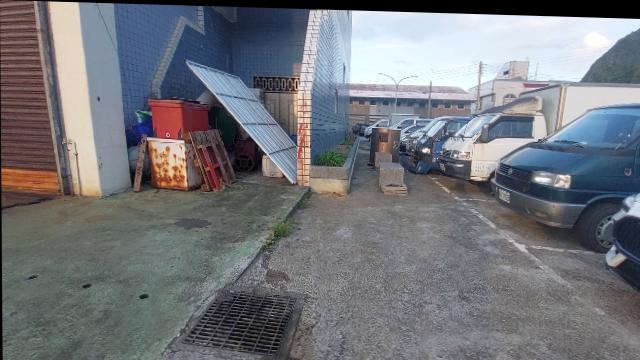pollute: (186, 127, 237, 191), (146, 136, 199, 190), (149, 99, 209, 139), (126, 110, 152, 145), (133, 133, 147, 191), (236, 136, 255, 171), (260, 153, 285, 178), (128, 145, 138, 169)
